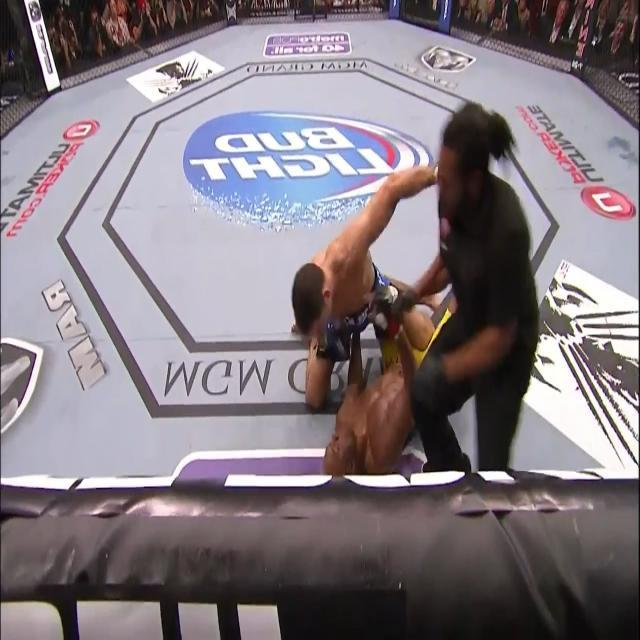non-violence: (3, 0, 640, 120), (405, 105, 537, 461)
violence: (290, 160, 441, 477)
